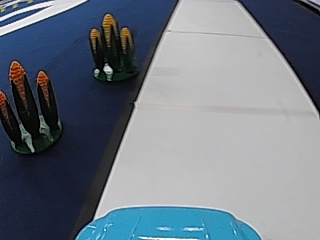corn: (0, 61, 67, 154), (87, 10, 140, 82)
